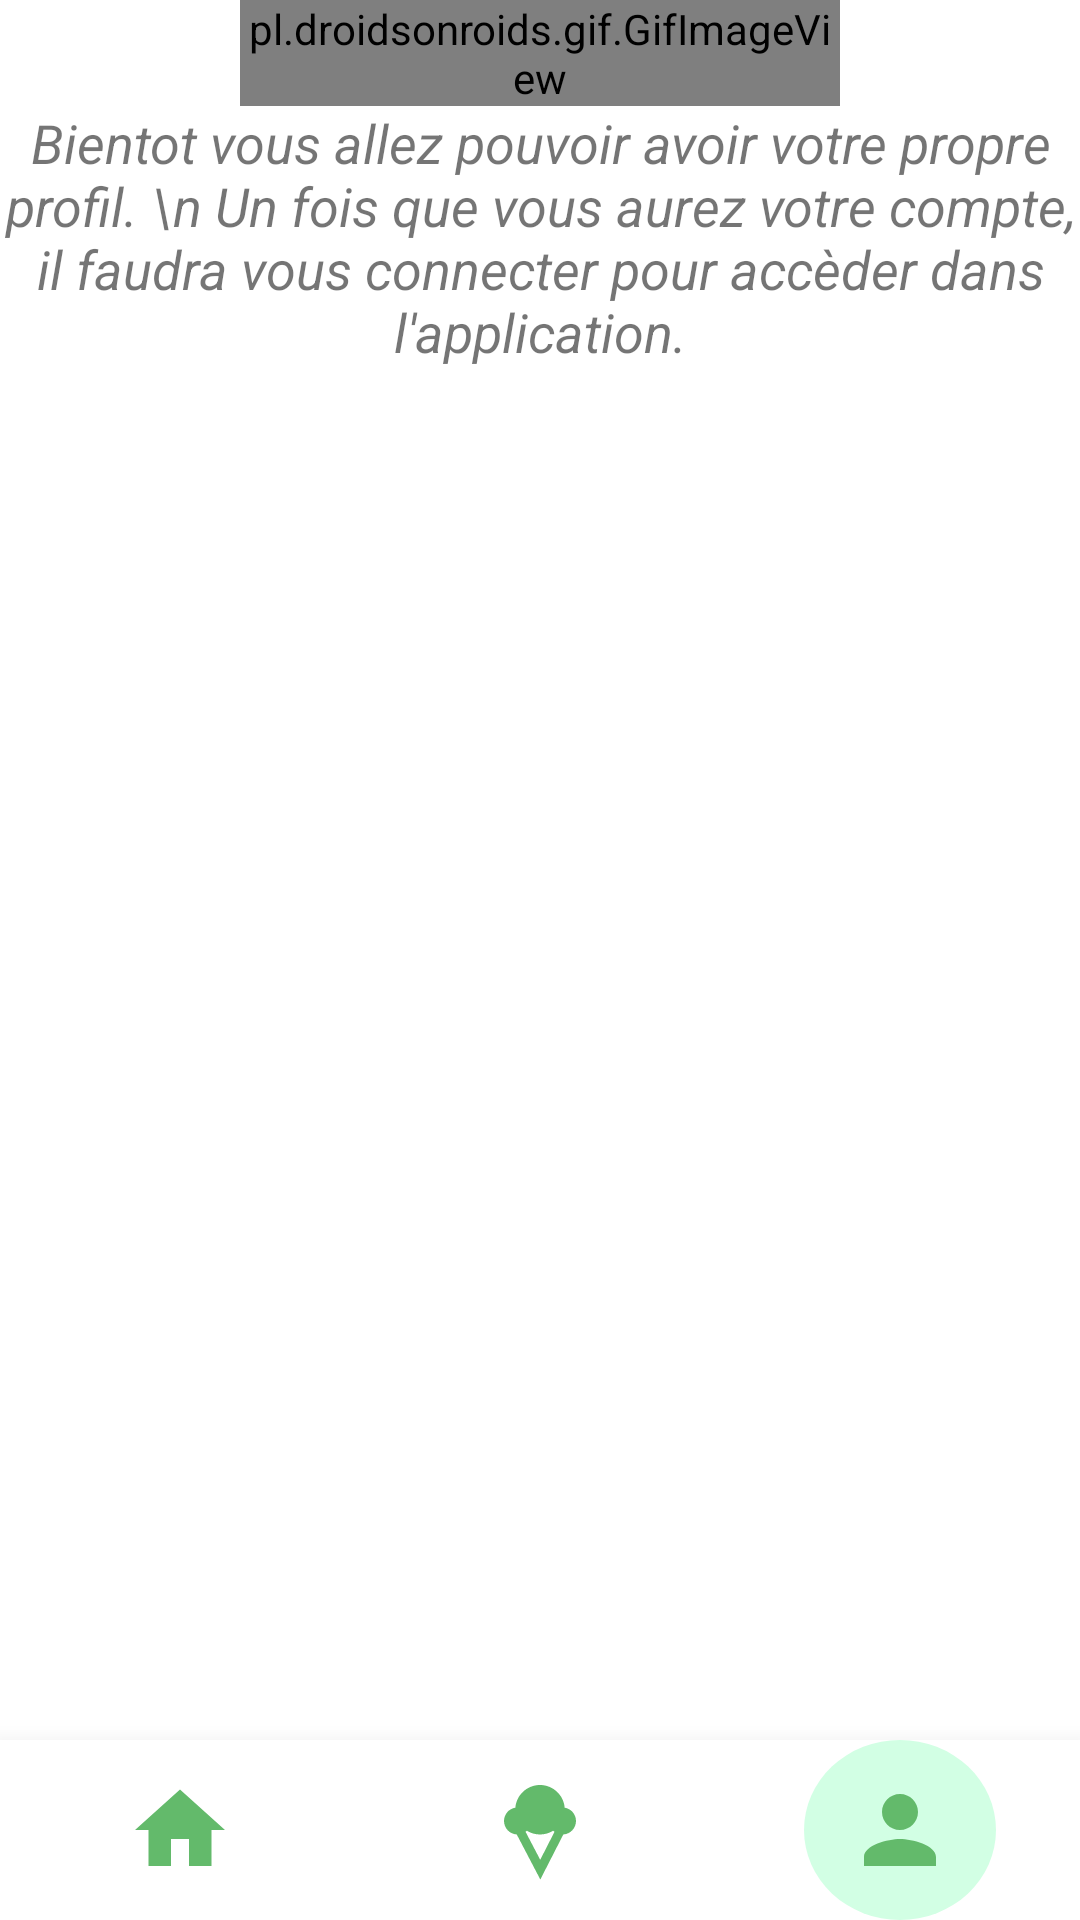

Screen size 1080x1920. Icon name, then its center in pixels as point (x, y):
home: point (180, 1828)
icecream: point (540, 1832)
person: point (900, 1830)
